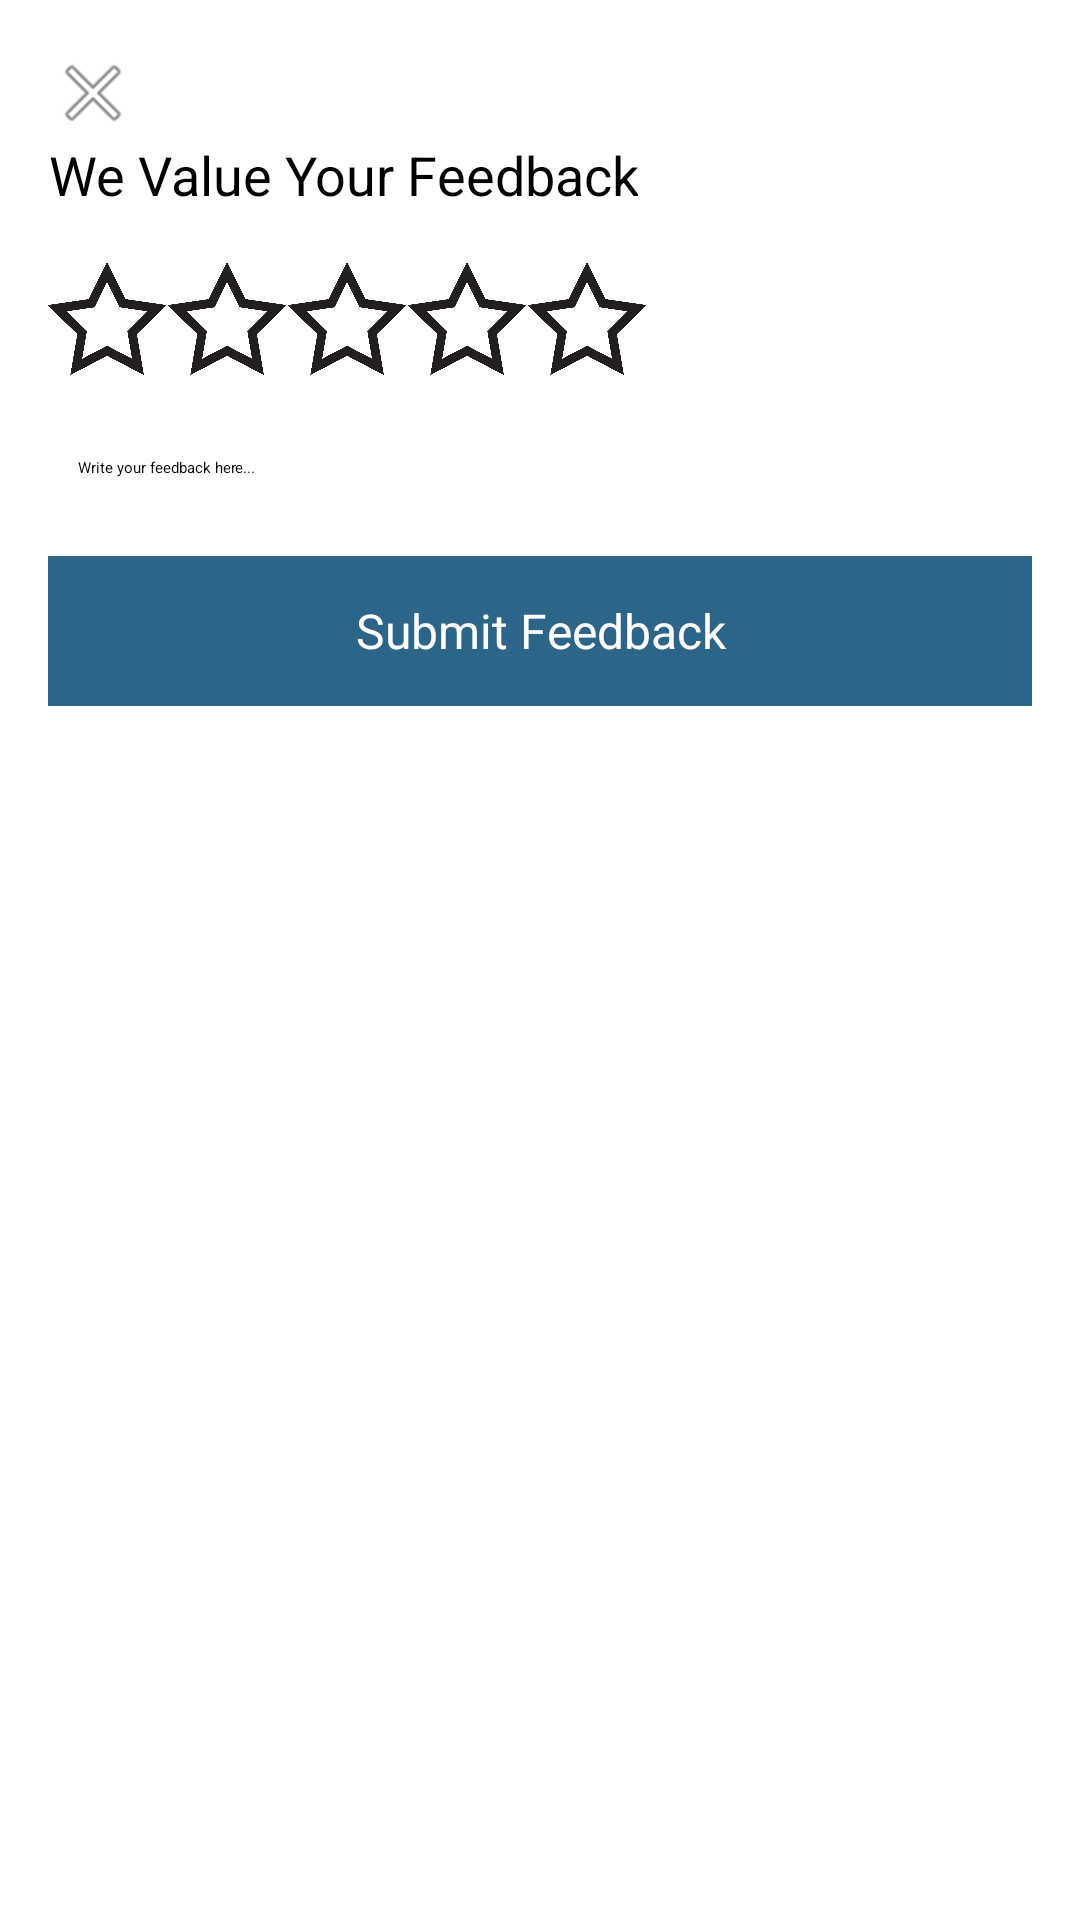

Screen size 1080x1920. Icon name, then its center in pixels as [x,y]:
close clear cancel: [93,93]
Star 1: [107,319]
Star 2: [227,319]
Star 3: [347,319]
Star 4: [467,319]
Star 5: [587,319]
